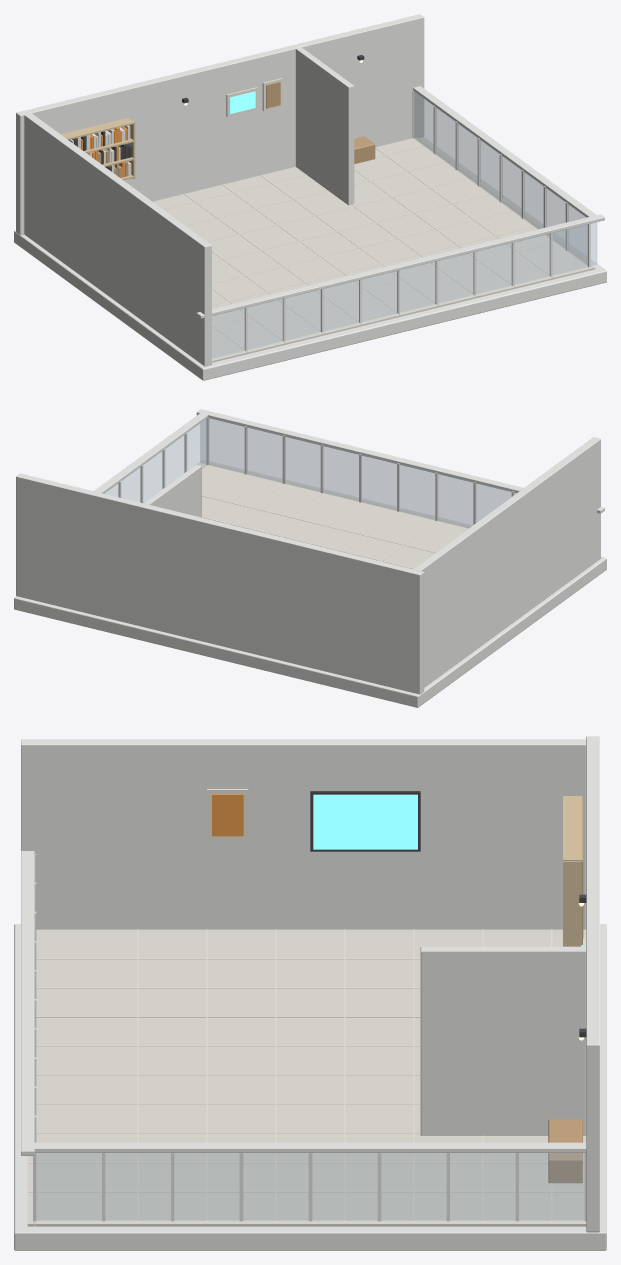
Rendered from office_room_shell.glb.
3 renders of one model, top to bottom at view 1: azimuth 30°, elevation 25°; view 2: azimuth 150°, elevation 25°; view 3: azimuth 270°, elevation 25°, orthographic. The views are drawn at different scales.
Visible parts, largest first — view 1: office_room_shell; view 2: office_room_shell; view 3: office_room_shell.
Part boxes in pixels (x1=…): office_room_shell: x1=14, y1=14, x2=606, y2=380; office_room_shell: x1=14, y1=409, x2=606, y2=707; office_room_shell: x1=14, y1=736, x2=606, y2=1250.
Size of the model in its own units: 10.6 by 3.3 by 8.6.
